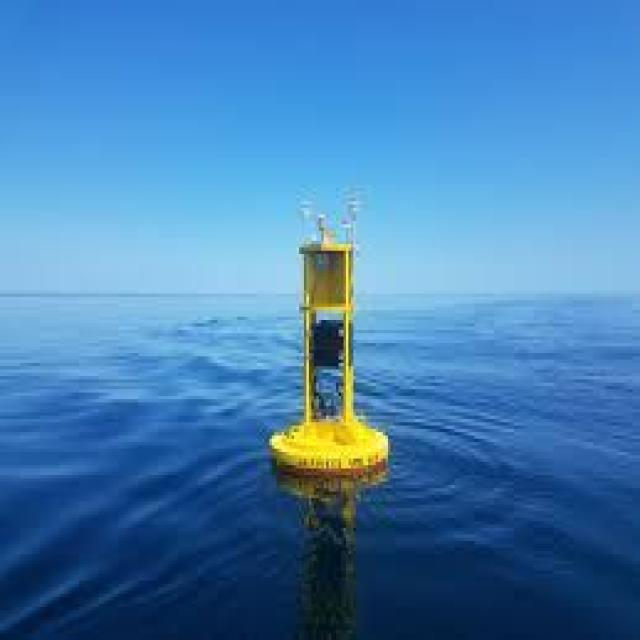2.5 sepcial mark: (257, 173, 400, 499)
